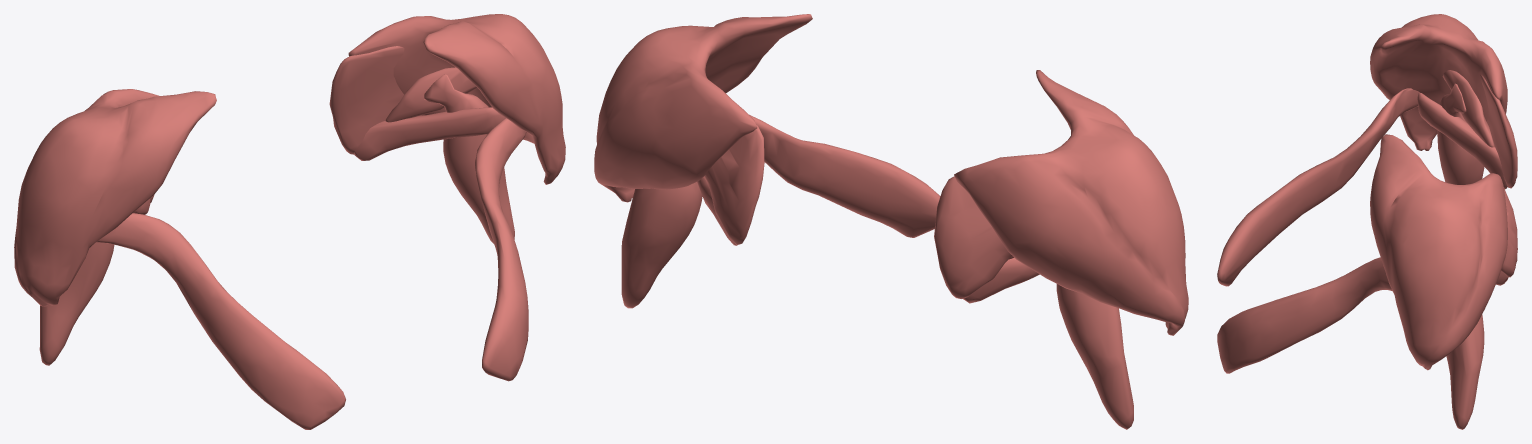
Rendered from shoulder.glb.
3 views of the same model, side by side, from view 1: azimuth 30°, elevation 25°; view 2: azimuth 150°, elevation 25°; view 3: azimuth 270°, elevation 25° (orthographic). The views are drawn at different scales.
Visible parts, largest first — view 1: shoulder__selectable; view 2: shoulder__selectable; view 3: shoulder__selectable.
Boxes of the visible parts, x1=… form: shoulder__selectable: x1=14, y1=14, x2=565, y2=429; shoulder__selectable: x1=594, y1=14, x2=1188, y2=429; shoulder__selectable: x1=1217, y1=14, x2=1517, y2=429.
Size of the model in its own units: 4.38 by 2.11 by 2.37.
